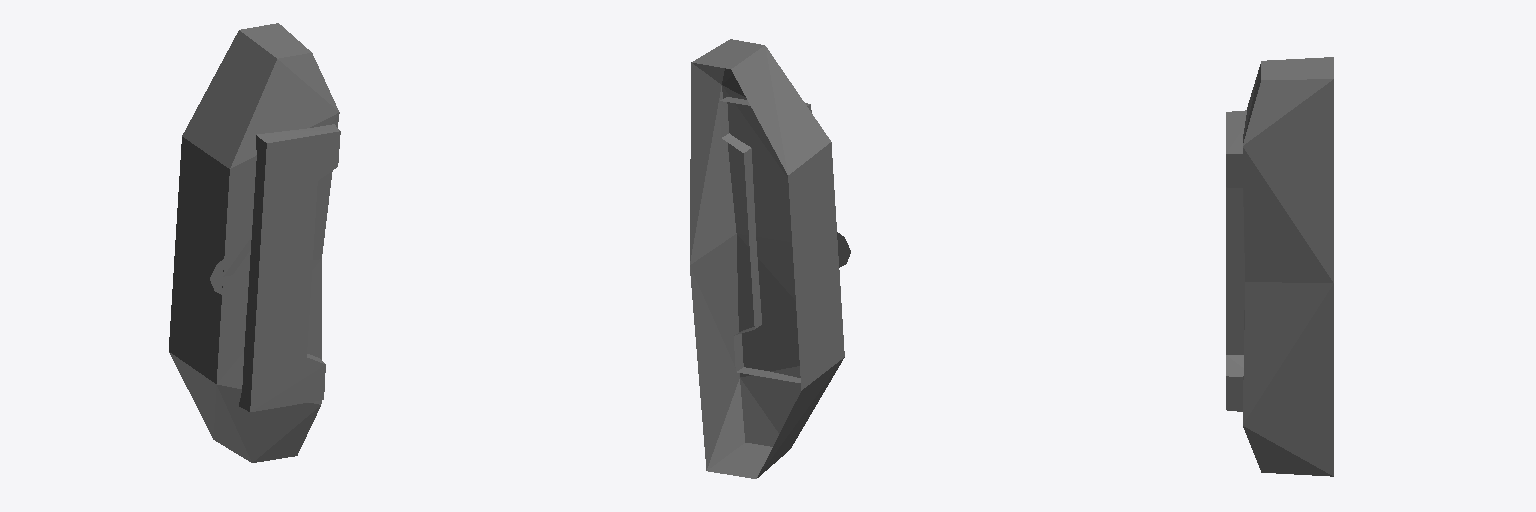
File: front_left_brake.obj
3 renders of one model, left to right at view 1: azimuth 30°, elevation 25°; view 2: azimuth 150°, elevation 25°; view 3: azimuth 270°, elevation 25°, orthographic.
Visible parts, largest first — view 1: (null); view 2: (null); view 3: (null).
Part boxes in pixels (x1,y1,x2,y2): (null): (169, 23, 340, 462); (null): (690, 39, 850, 478); (null): (1226, 57, 1333, 476).
Size of the model in its own units: 347 by 1041 by 250.